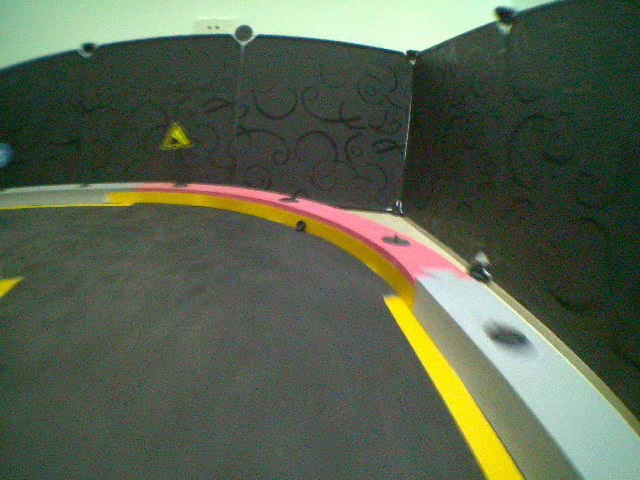fast: (158, 120, 195, 150)
